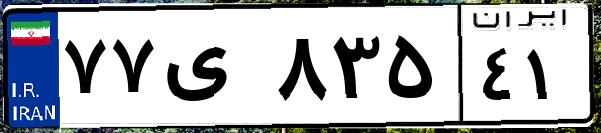1: (525, 38, 570, 115)
3: (330, 28, 385, 110)
4: (475, 38, 525, 113)
5: (385, 28, 445, 110)
7: (57, 26, 110, 100), (110, 28, 158, 98)
8: (270, 28, 330, 110)
ی: (158, 20, 270, 120)
